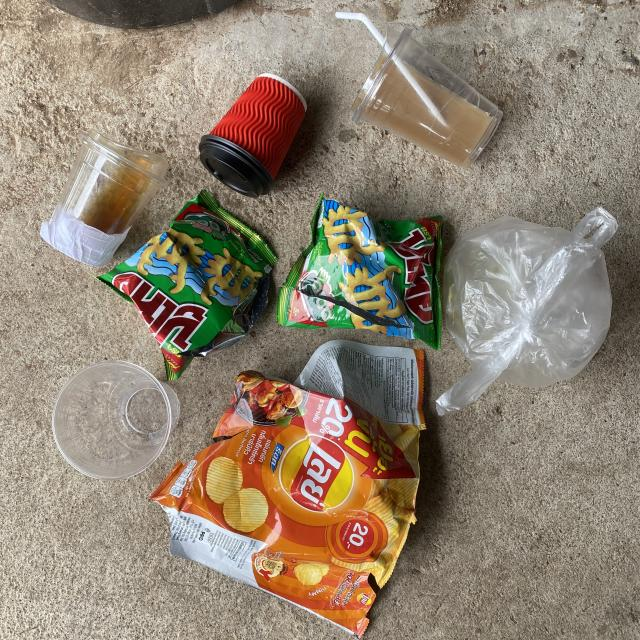Single-layer Plastic: (430, 196, 633, 433)
